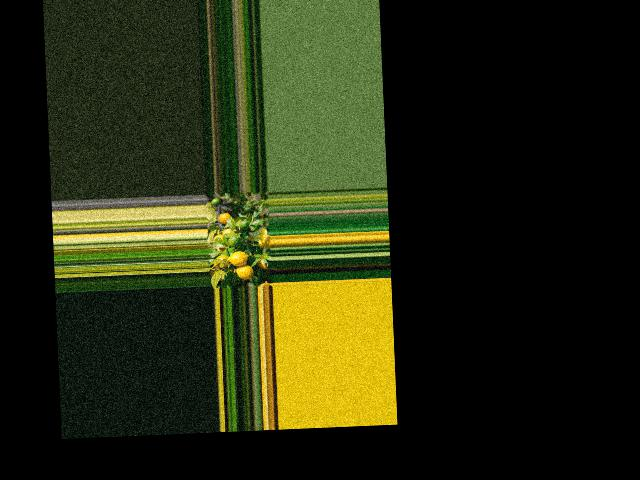lemon: (216, 209, 235, 224)
